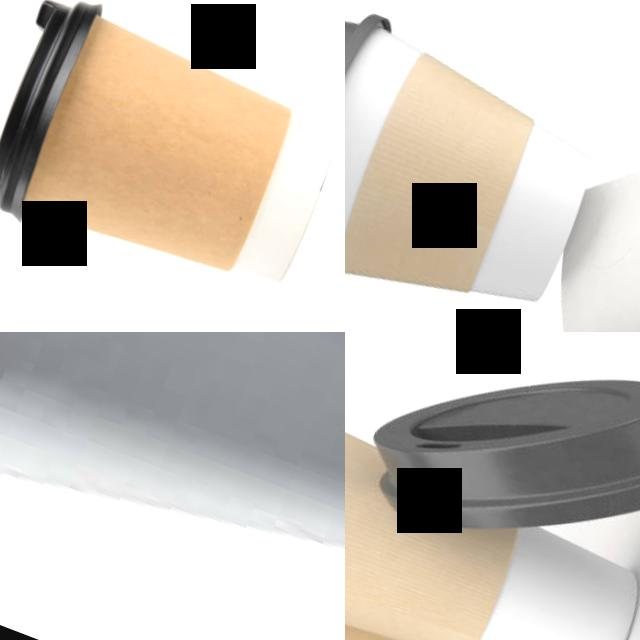cup: (0, 0, 345, 320), (0, 332, 345, 640), (345, 0, 621, 332), (345, 356, 640, 640), (345, 516, 566, 640)
